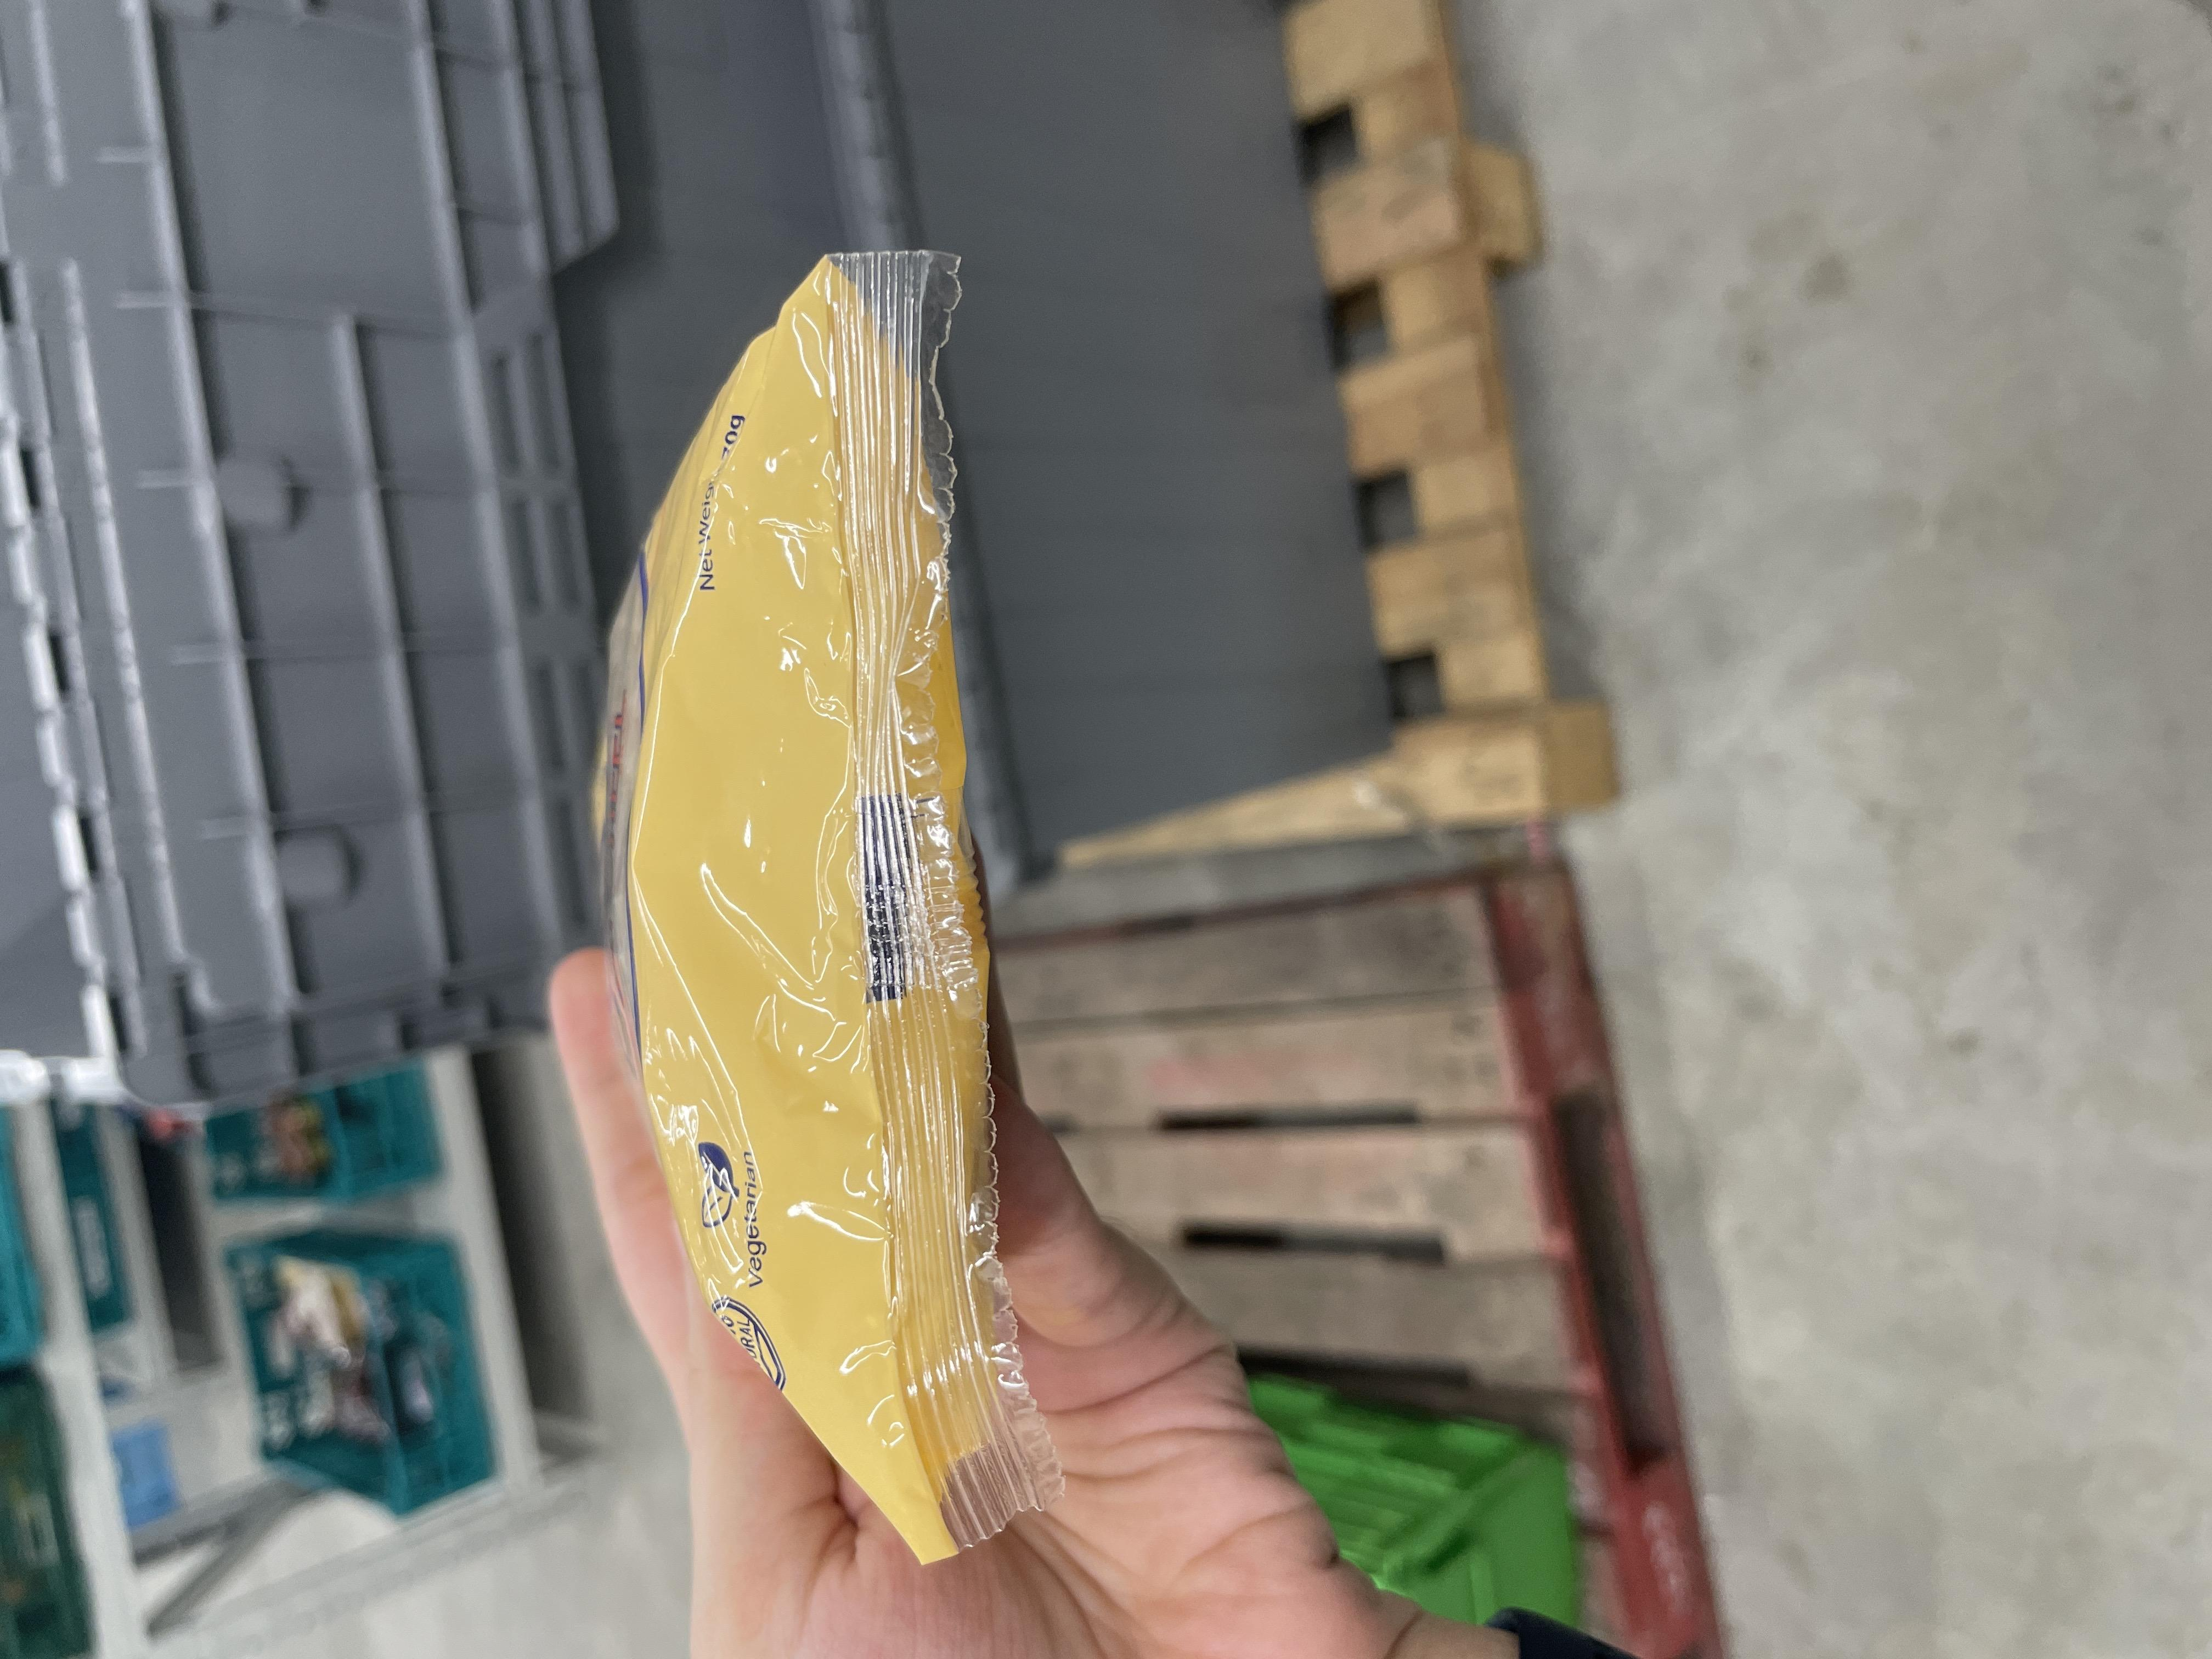object_name: (219, 708, 1345, 932)
